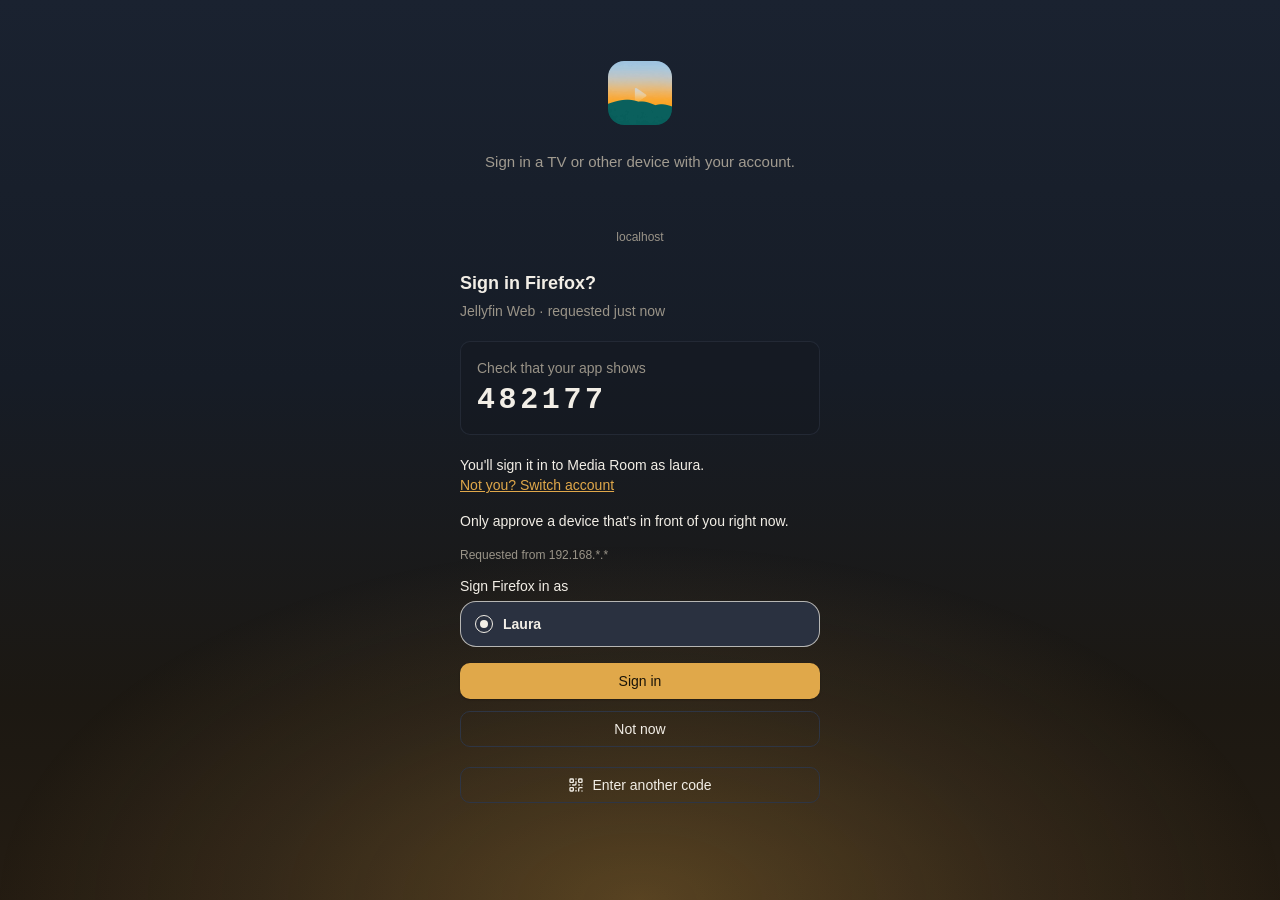
Scenario: approves a Quick Connect request for an unlocked profile without a PIN
Expected: the heading "Sign in Firefox?" is shown, [460, 273, 596, 293]
Click the button "Sign in".
click(640, 681)  # box [460, 663, 820, 699]
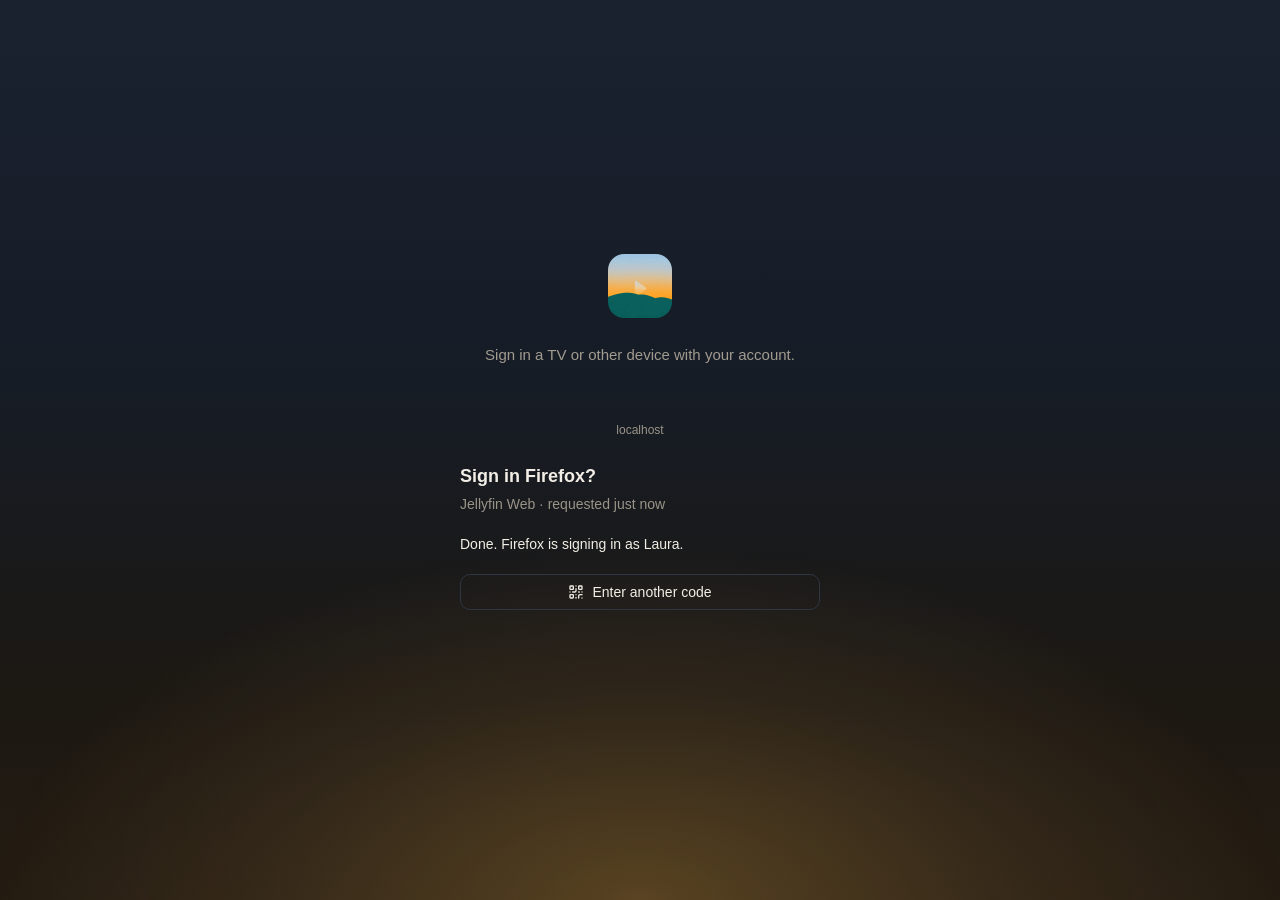
Expected: the text "Done. Firefox is signing in as Laura." is shown, [460, 536, 683, 552]
